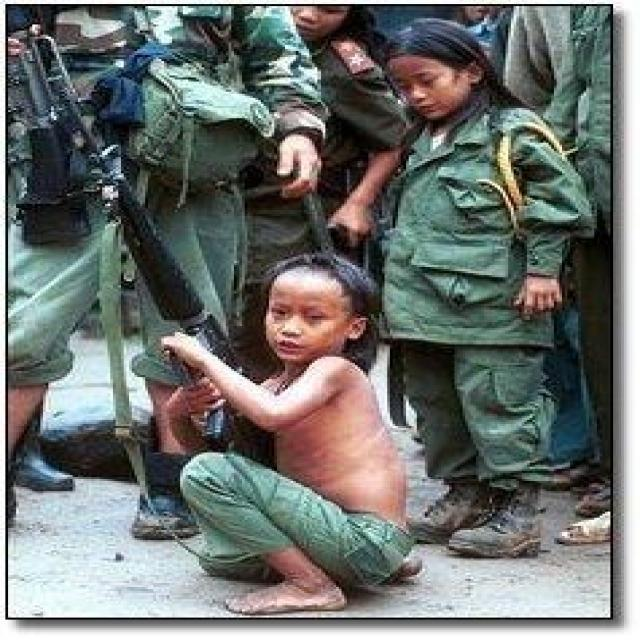gun: (41, 73, 269, 469)
